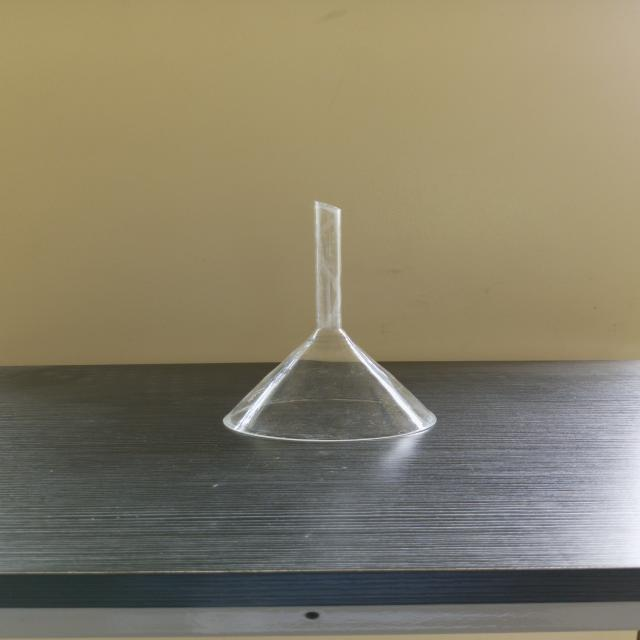funnel: (206, 197, 464, 446)
